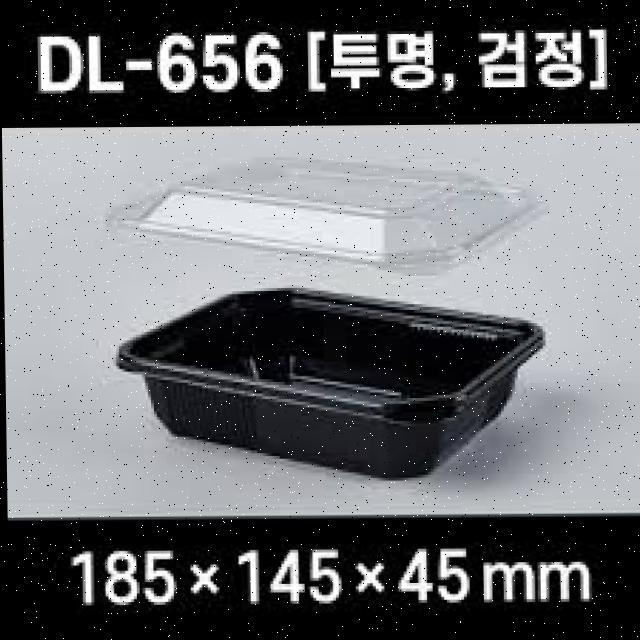disposable: (114, 250, 557, 511)
